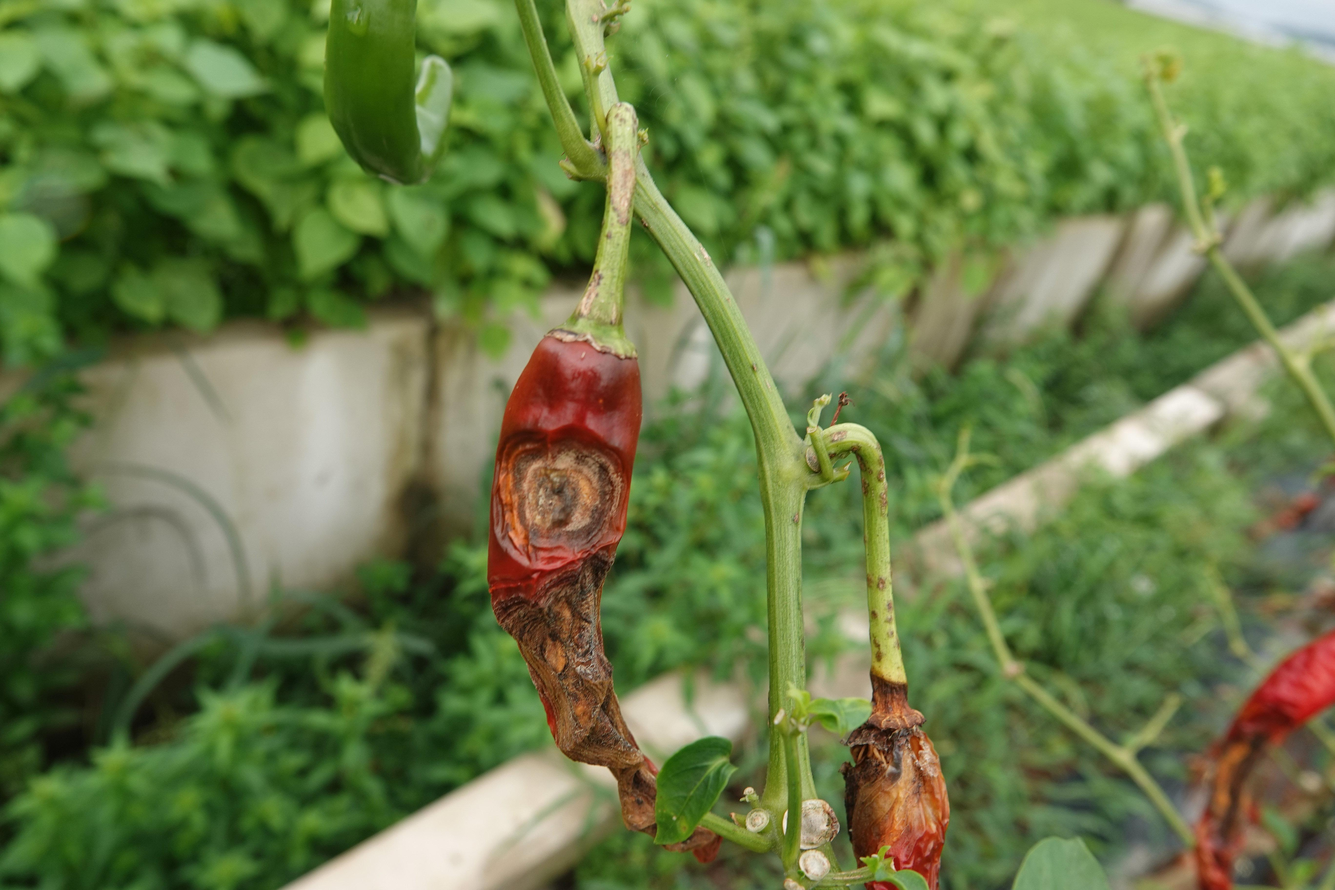Buah Cabai Sehat: (305, 0, 452, 194)
Busuk Buah Antraknosa: (483, 322, 725, 864)
